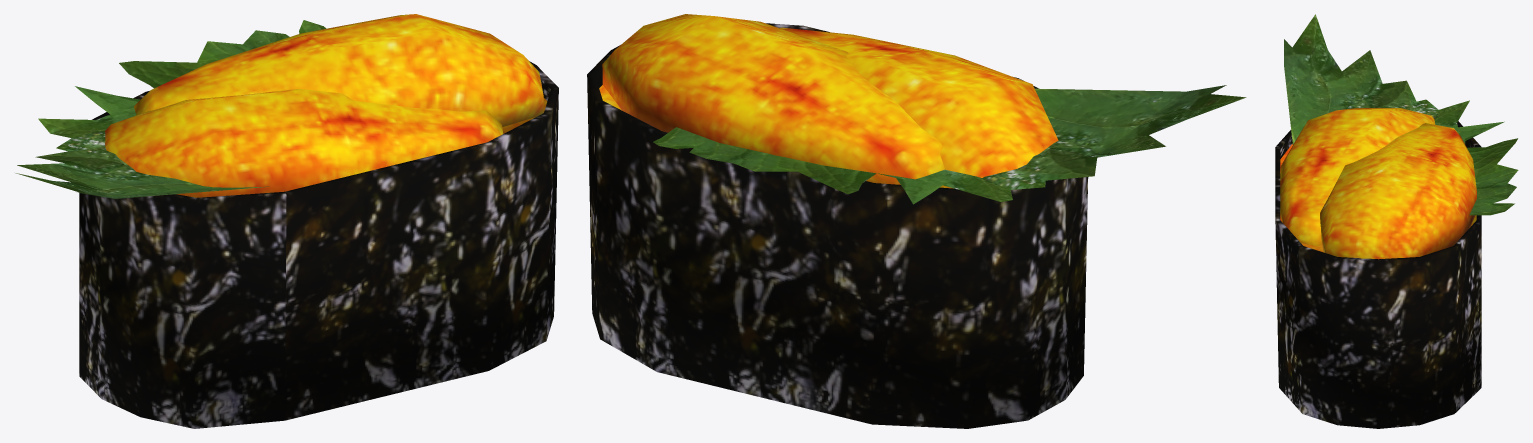
The model's file is sea_urchin_3.fbx.
The picture shows the model from 3 angles, left to right: view 1: azimuth 30°, elevation 25°; view 2: azimuth 150°, elevation 25°; view 3: azimuth 270°, elevation 25°; orthographic projection. The views are drawn at different scales.
Parts seen in each view (by area): view 1: sea_urchin_3; view 2: sea_urchin_3; view 3: sea_urchin_3.
Boxes of the visible parts, box(x1,y1,x2,y2) form: sea_urchin_3: box(15, 14, 558, 428); sea_urchin_3: box(587, 14, 1246, 428); sea_urchin_3: box(1275, 14, 1518, 428).
Size of the model in its own units: 7.29 by 3.57 by 3.7.
